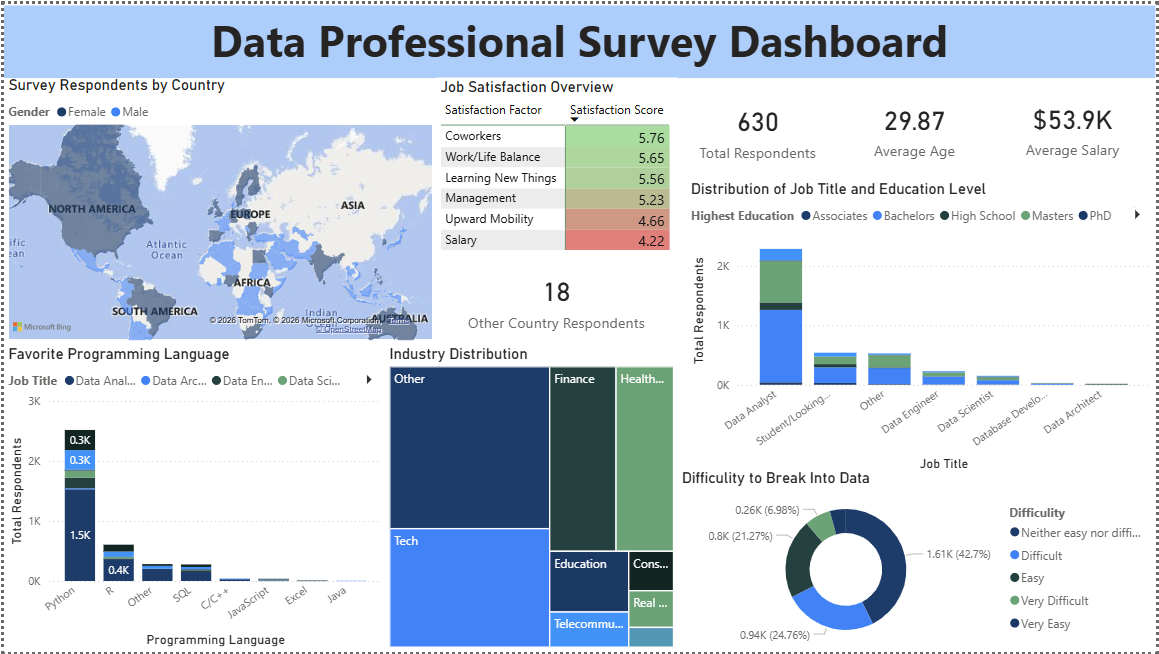

This screenshot's page, from the dashboard's own definition file:
{"tool":"powerbi","page":{"name":"Dashboard","canvas":[1280,720],"ordinal":0},"visuals":[{"type":"card","fields":{"Values":["Count(Cleaning Data.Unique ID)"]},"box":[748.6,82.5,177.6,116.3],"z":0},{"type":"card","fields":{"Values":["Avg(Cleaning Data.Average Salary)"]},"box":[1095.3,80.4,184,114.2],"z":1000},{"type":"filledMap","title":"Survey Respondents by Country","fields":{"Category":["Cleaning Data.Which Country do you live in?"],"Series":["Cleaning Data.Male/Female?"]},"box":[0,80.4,480.8,298.1],"z":2000},{"type":"card","title":"Average Age","fields":{"Values":["Avg(Cleaning Data.Q10 - Current Age)"]},"box":[926.2,80.4,169.2,116.3],"z":3000},{"type":"columnChart","title":"Distribution of Job Title and Education Level","fields":{"Category":["Cleaning Data.Which Title Best Fits your Current Role?"],"Y":["CountNonNull(Cleaning Data.Unique ID)"],"Series":["Cleaning Data.Education"]},"box":[759.1,194.5,520.2,327.8],"z":4000},{"type":"columnChart","title":"Favorite Programming Language","fields":{"Category":["Cleaning Data.Favorite Programming Language"],"Series":["Cleaning Data.Which Title Best Fits your Current Role?"],"Y":["CountNonNull(Cleaning Data.Unique ID)"]},"box":[0,378.5,425,340.4],"z":5000},{"type":"donutChart","title":"Difficulity to Break Into Data","fields":{"Category":["Cleaning Data.How difficult was it for you to break into Data?"],"Y":["CountNonNull(Cleaning Data.How difficult was it for you to break into Data?)"]},"box":[748.3,515.9,530.5,203.1],"z":6000},{"type":"textbox","box":[0,2.1,1279.3,80.4],"z":7000},{"type":"pivotTable","title":"Job Satisfaction Overview","fields":{"Values":["Avg(Cleaning Data.Value)"],"Rows":["Cleaning Data.Attribute"]},"box":[480.4,81.2,268.4,198.8],"z":8000},{"type":"treemap","title":"Industry Distribution","fields":{"Group":["Cleaning Data.Q4 - What Industry do you work in?"],"Values":["CountNonNull(Cleaning Data.Q4 - What Industry do you work in?)"]},"box":[423.9,379.1,325.2,340.9],"z":9000},{"type":"card","fields":{"Values":["Cleaning Data.Other Country Respondents"]},"box":[480.4,280,266.7,97.7],"z":9001}]}

Visuals, with their boxes in screenshot pixels (x1, y1, x2, y2), scaled from the page's 1280x720 canvas onto the 1159x654 screenshot:
card - Count(Cleaning Data.Unique ID): bbox=[678, 75, 839, 181]
card - Avg(Cleaning Data.Average Salary): bbox=[992, 73, 1158, 177]
"Survey Respondents by Country" filledMap: bbox=[0, 73, 435, 344]
"Average Age" card: bbox=[839, 73, 992, 179]
"Distribution of Job Title and Education Level" columnChart: bbox=[687, 177, 1158, 474]
"Favorite Programming Language" columnChart: bbox=[0, 344, 385, 653]
"Difficulity to Break Into Data" donutChart: bbox=[678, 469, 1158, 653]
textbox: bbox=[0, 2, 1158, 75]
"Job Satisfaction Overview" pivotTable: bbox=[435, 74, 678, 254]
"Industry Distribution" treemap: bbox=[384, 344, 678, 653]
card - Cleaning Data.Other Country Respondents: bbox=[435, 254, 676, 343]
